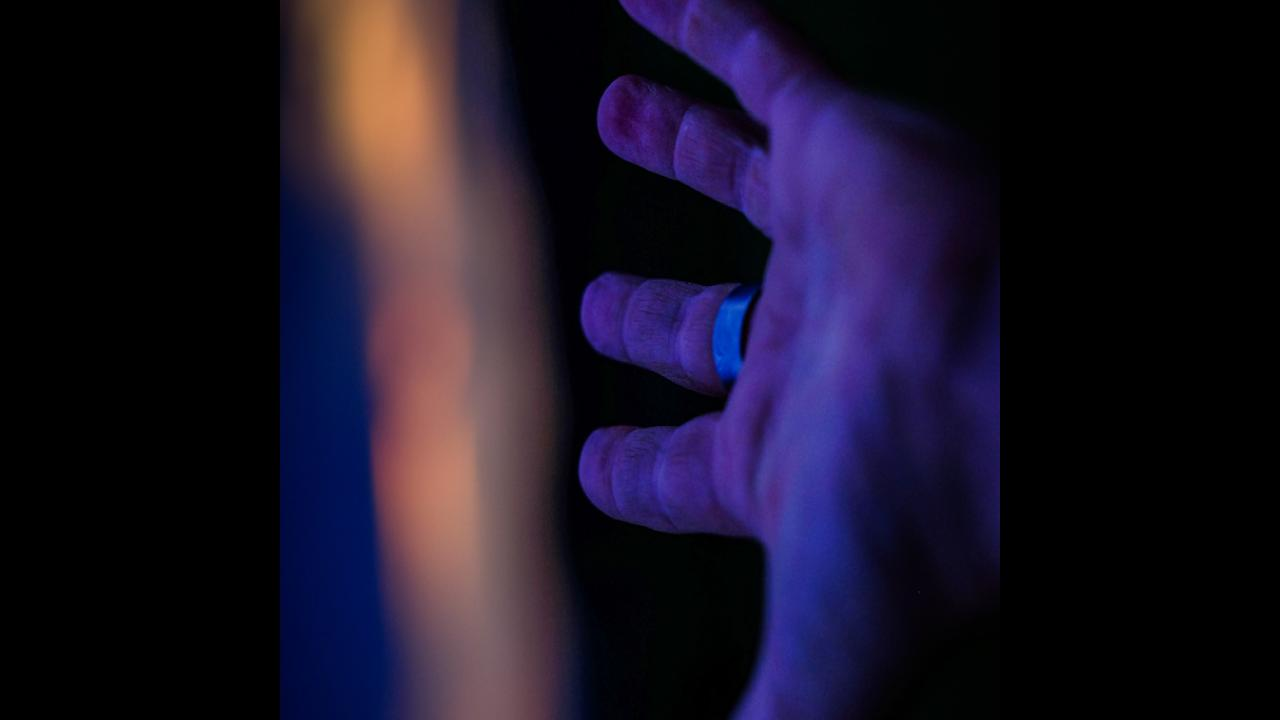ring: (712, 282, 760, 390)
